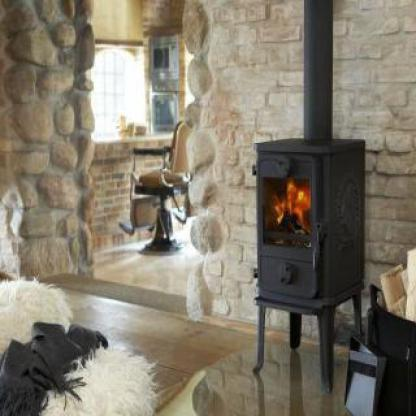fire: (273, 175, 309, 234)
